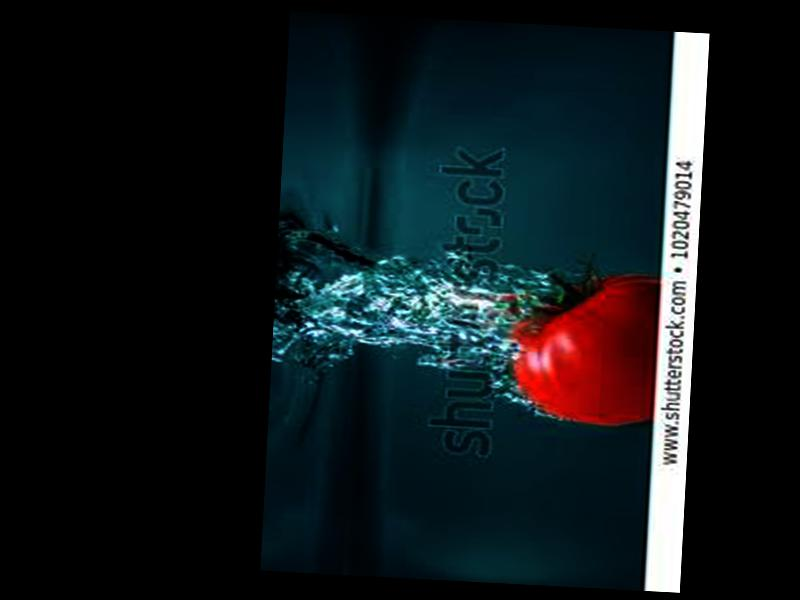Tomato: (508, 266, 660, 427)
